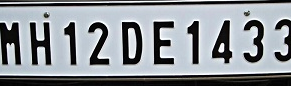1: (62, 21, 79, 66), (186, 20, 202, 66)
2: (87, 21, 111, 66)
3: (242, 19, 267, 64), (272, 18, 291, 63)
4: (211, 20, 234, 65)
D: (121, 21, 143, 66)
E: (152, 20, 176, 66)
H: (29, 20, 52, 67)
M: (1, 21, 23, 66)
